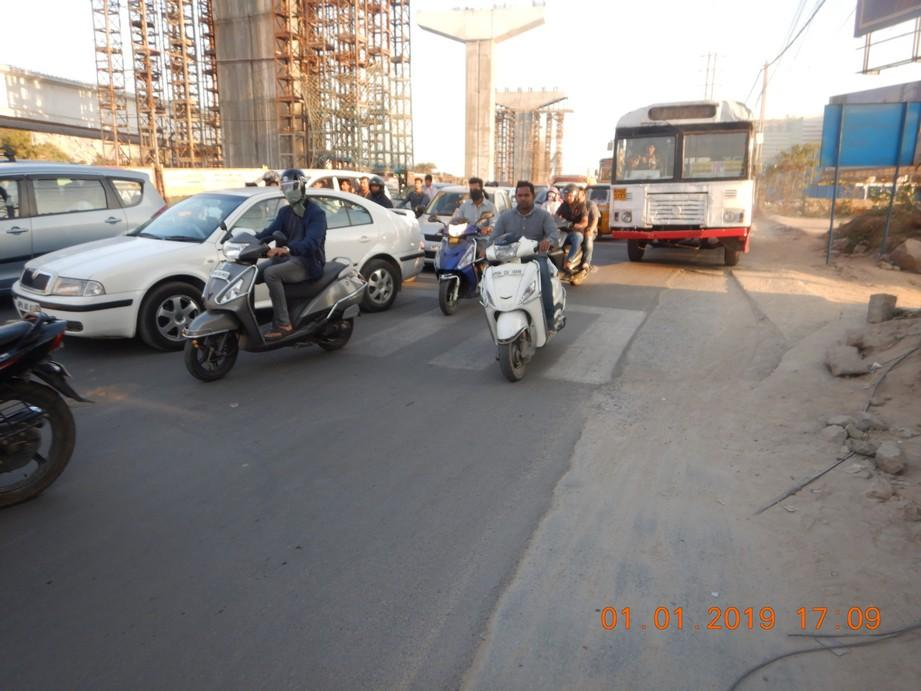plate: (489, 268, 524, 278)
